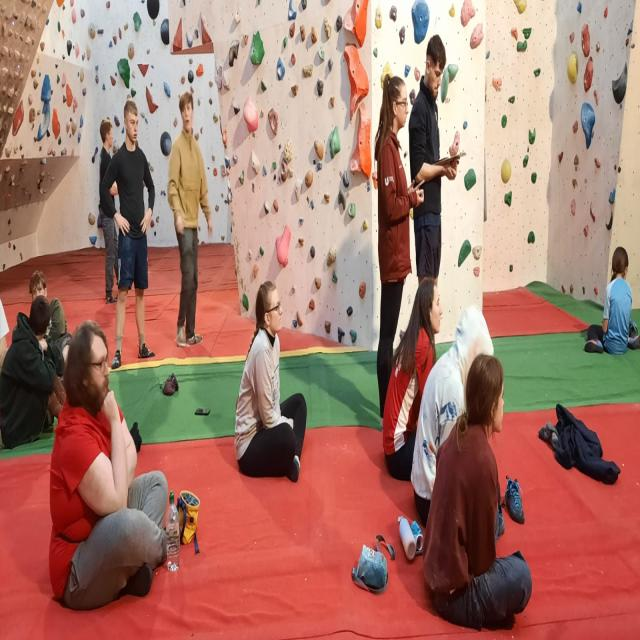Crimp: (256, 246, 264, 256)
Jug: (144, 85, 161, 117), (336, 189, 346, 210), (503, 189, 513, 209), (516, 39, 528, 53), (528, 128, 537, 146), (523, 28, 532, 37)
Pocket: (268, 108, 280, 135), (279, 156, 288, 183), (286, 0, 297, 20), (276, 58, 285, 79)
Sloper: (343, 41, 371, 120), (351, 102, 372, 184), (436, 60, 464, 107), (346, 0, 371, 49), (610, 60, 633, 108), (410, 0, 433, 46), (580, 100, 600, 151), (274, 223, 295, 271), (242, 95, 262, 137), (248, 29, 267, 70), (114, 57, 134, 92), (454, 237, 474, 270), (327, 124, 343, 164), (466, 22, 486, 52), (584, 56, 598, 96), (51, 105, 65, 144), (37, 99, 50, 140), (11, 100, 25, 138), (567, 51, 580, 90), (461, 0, 478, 27), (160, 18, 173, 51), (498, 156, 512, 186), (464, 166, 478, 194), (39, 75, 52, 102), (64, 83, 74, 107)
